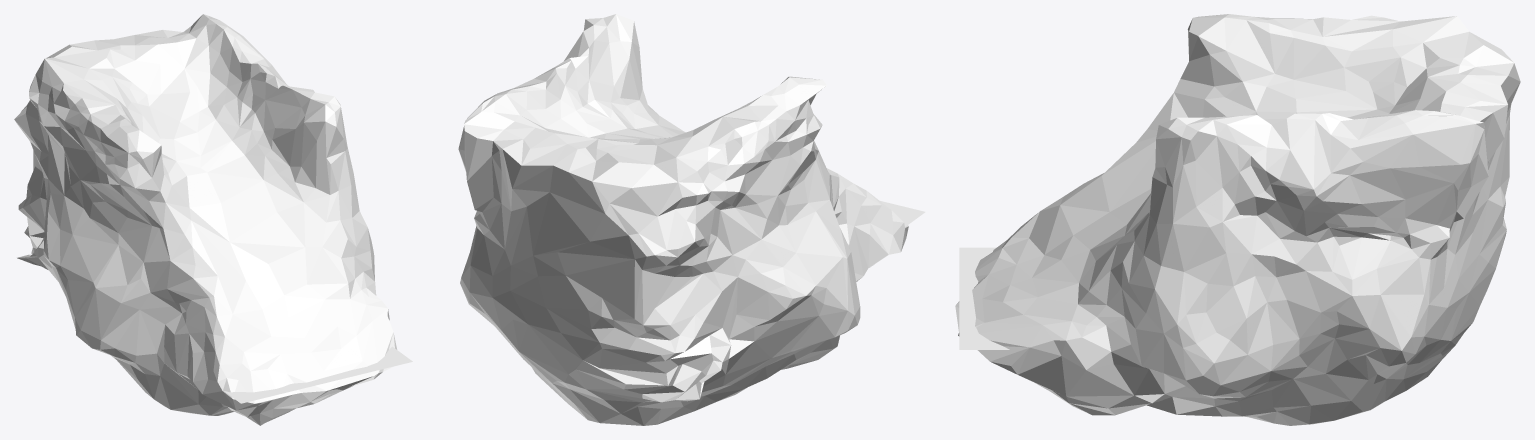
Rendered from ground.cliff.ramp.glb.
The picture shows the model from 3 angles, left to right: view 1: azimuth 30°, elevation 25°; view 2: azimuth 150°, elevation 25°; view 3: azimuth 270°, elevation 25°; orthographic projection. The views are drawn at different scales.
Visible parts, largest first — view 1: clifframp, cliffground; view 2: clifframp; view 3: clifframp, cliffground.
Part boxes in pixels (x1,y1,x2,y2): clifframp: (14, 14, 397, 425); cliffground: (223, 346, 412, 403); clifframp: (458, 14, 908, 425); clifframp: (955, 14, 1520, 425); cliffground: (959, 247, 1009, 349).
Bounding box in the file's own units: 6.43 × 6.13 × 9.33.
2 materials, 1 textured.
